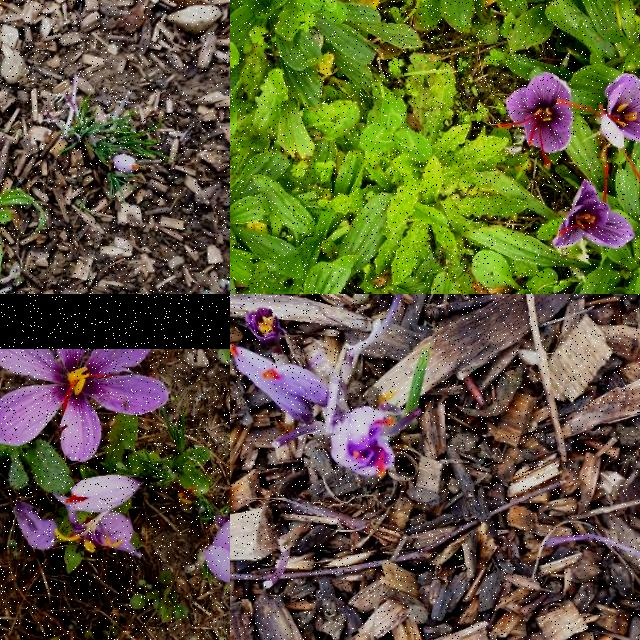flower: (0, 349, 168, 463), (556, 74, 640, 190), (498, 72, 574, 166), (551, 165, 637, 248), (230, 344, 314, 421), (330, 407, 398, 479), (64, 474, 148, 514), (262, 364, 330, 406), (205, 515, 230, 585), (114, 154, 140, 174)
